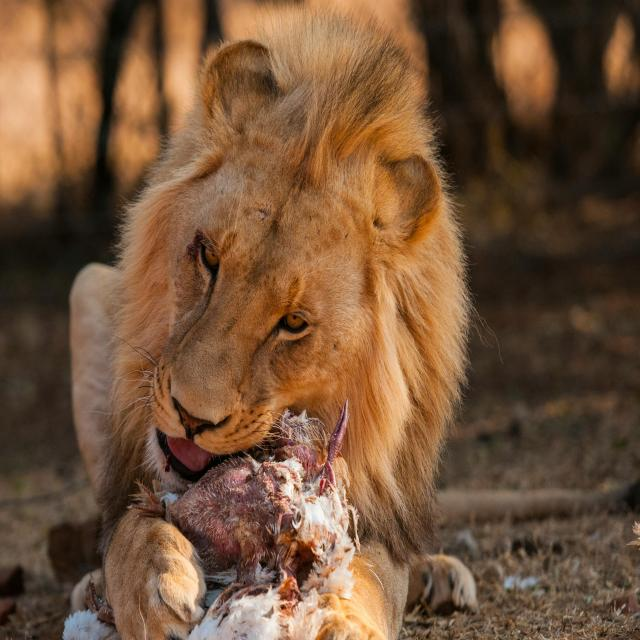Lion: (71, 14, 478, 640)
